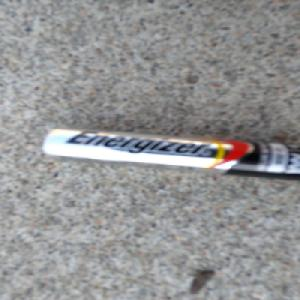Battery: (37, 125, 300, 181)
